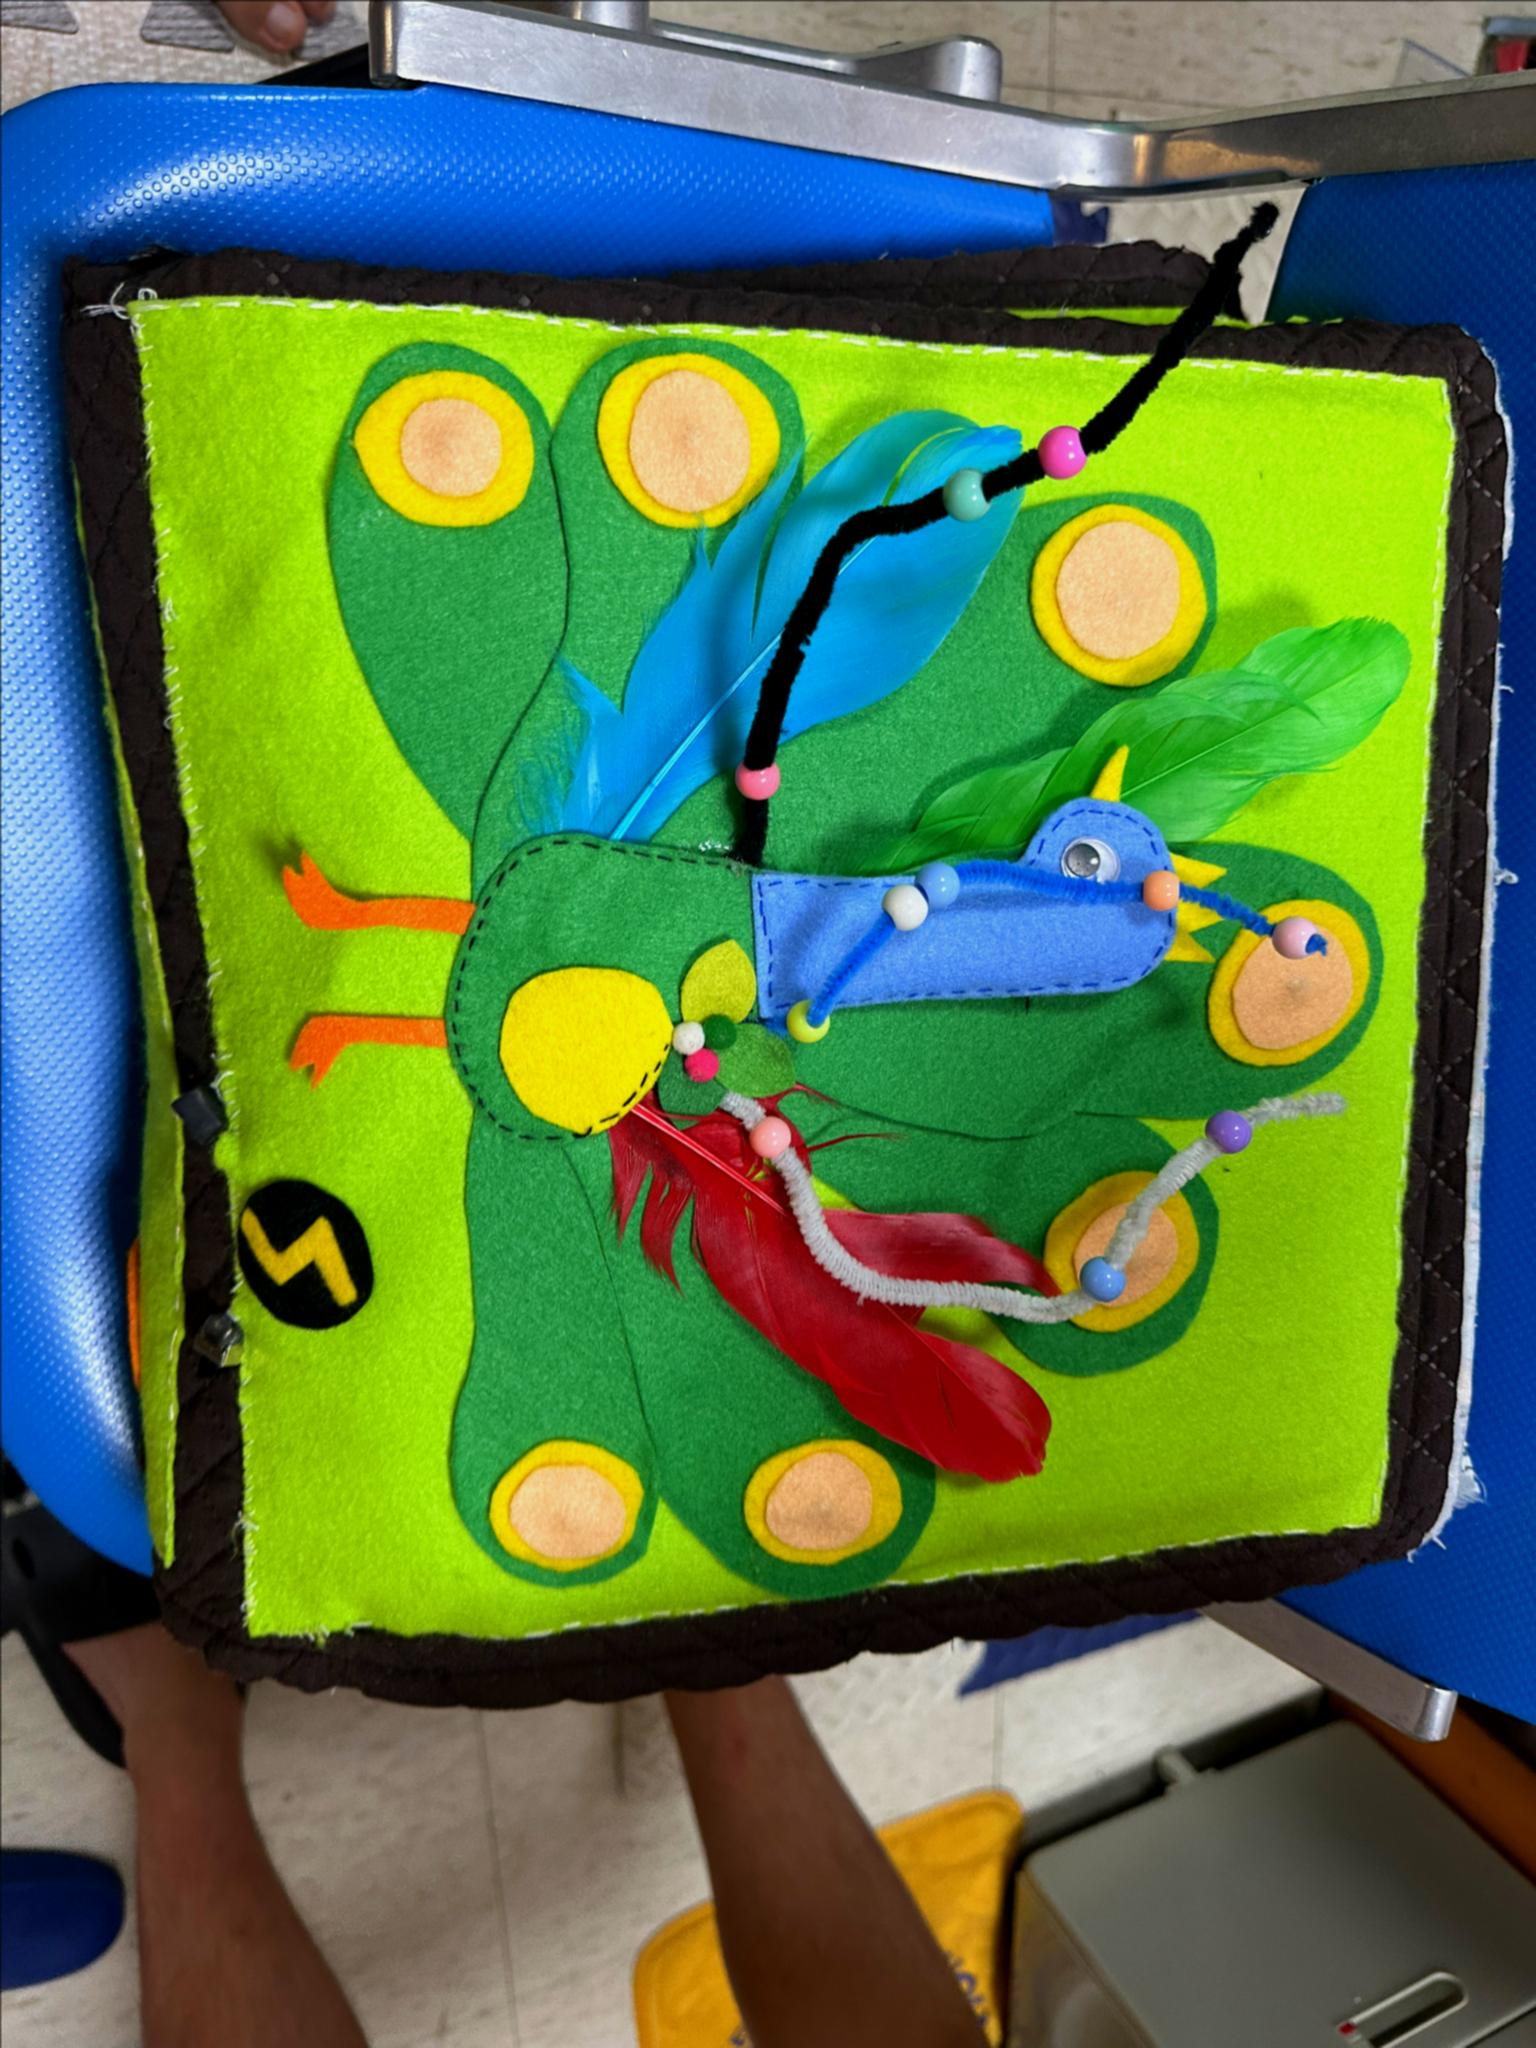bead: (1165, 1085, 1267, 1163), (925, 445, 1005, 527), (1257, 877, 1323, 974), (1055, 1242, 1134, 1309), (1026, 416, 1105, 482), (739, 1106, 810, 1176), (712, 748, 781, 813), (910, 855, 966, 910), (779, 985, 828, 1048), (1136, 868, 1191, 919), (871, 879, 916, 927)
